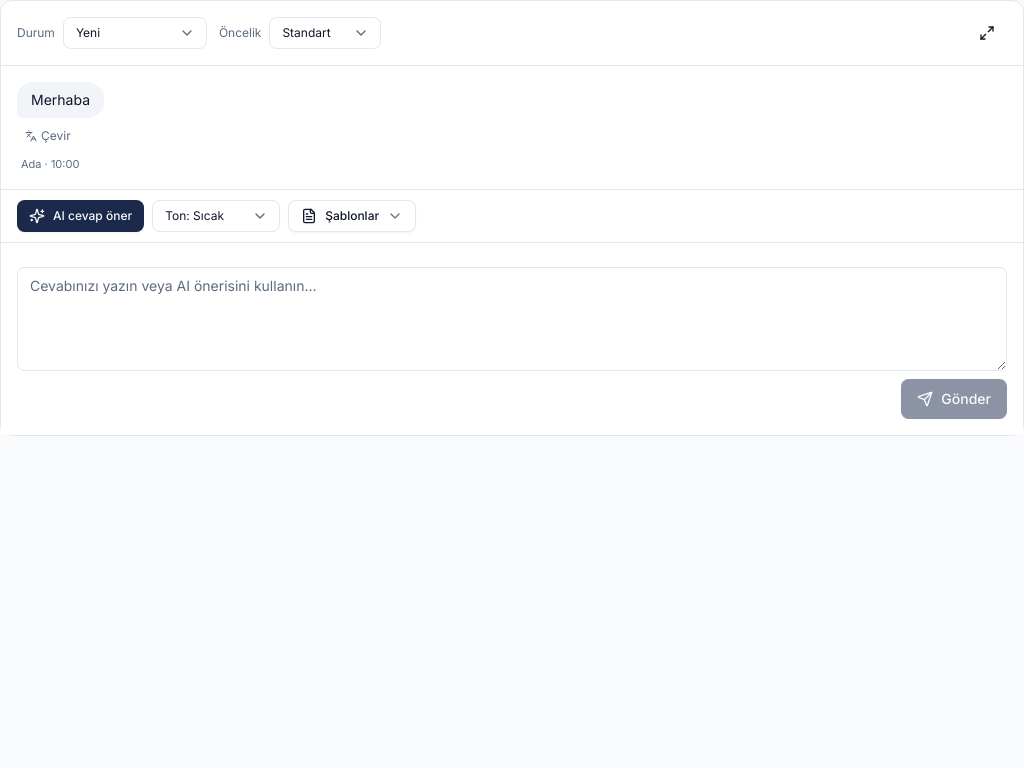
Test: şablon seçici — sayfalı liste + seçilince tam metin › yavaş dönen ESKİ arama yenisinin sonucunu ezmez
The width and height of the screenshot is (1024, 768).
Click the button "Şablonlar" at (352, 216), box [288,200,416,232]
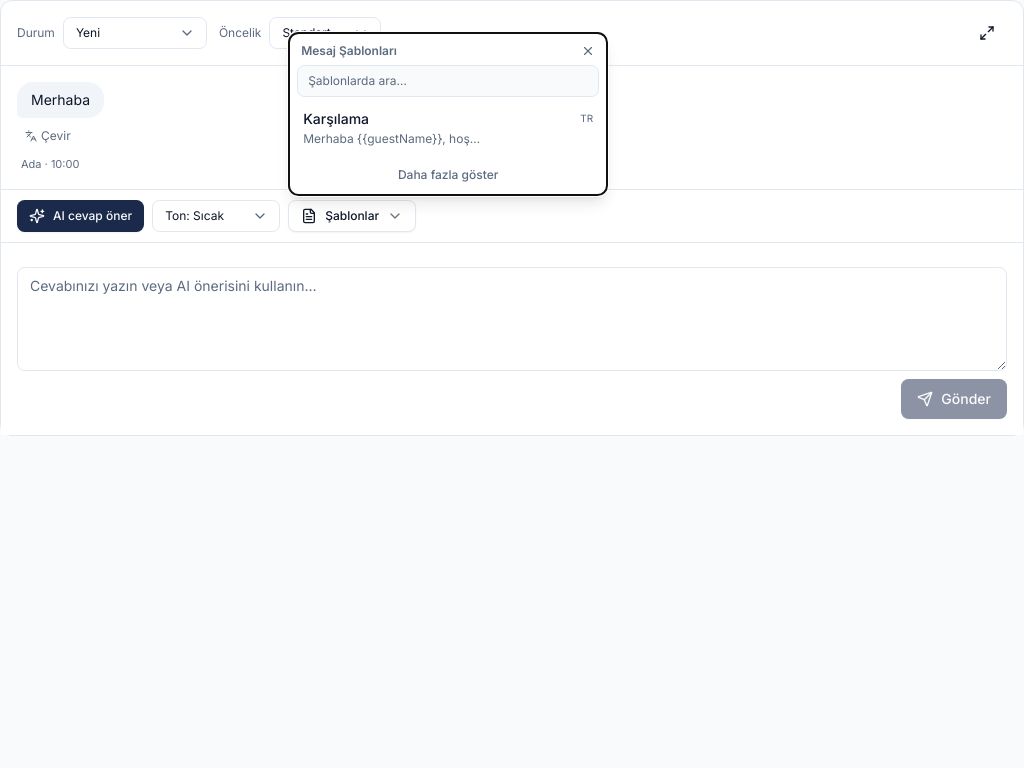
Now the dialog shows "Karşılama", box [293,100,603,154]
Type "yavas" into the search field labelled "Şablonlarda ara" at (448, 80), box [297,64,599,96]
Wait 300 ms
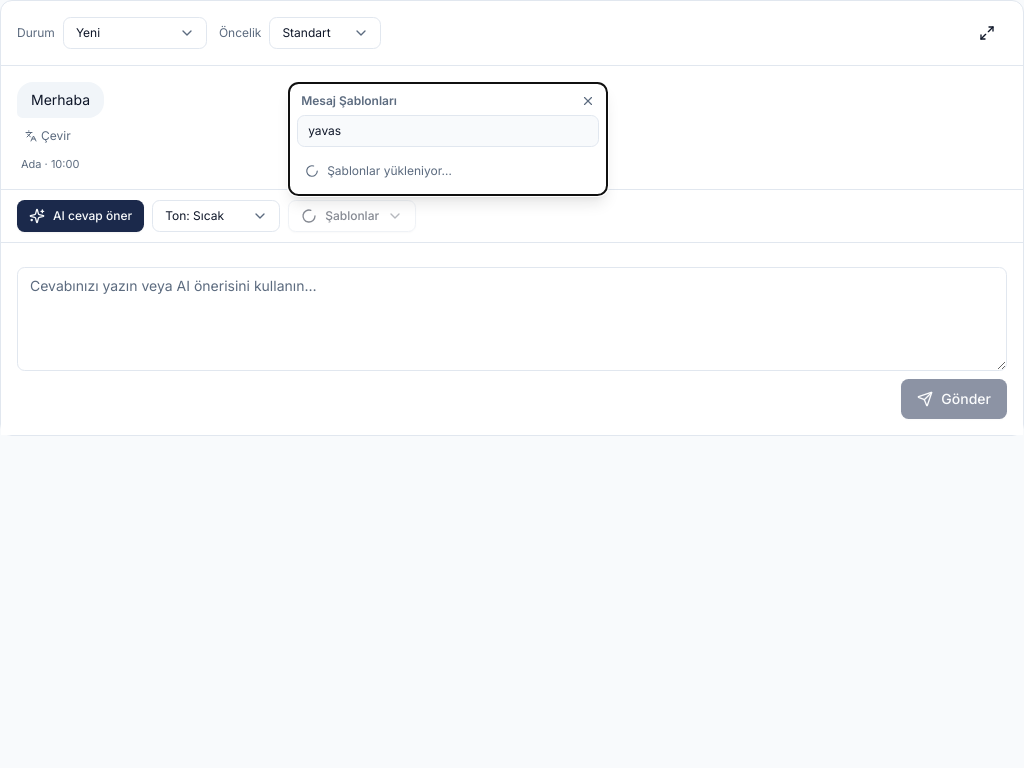
Replace the text in the search field named "Şablonlarda ara" with "otopark" at (448, 130), box [297,114,599,146]
Wait 300 ms
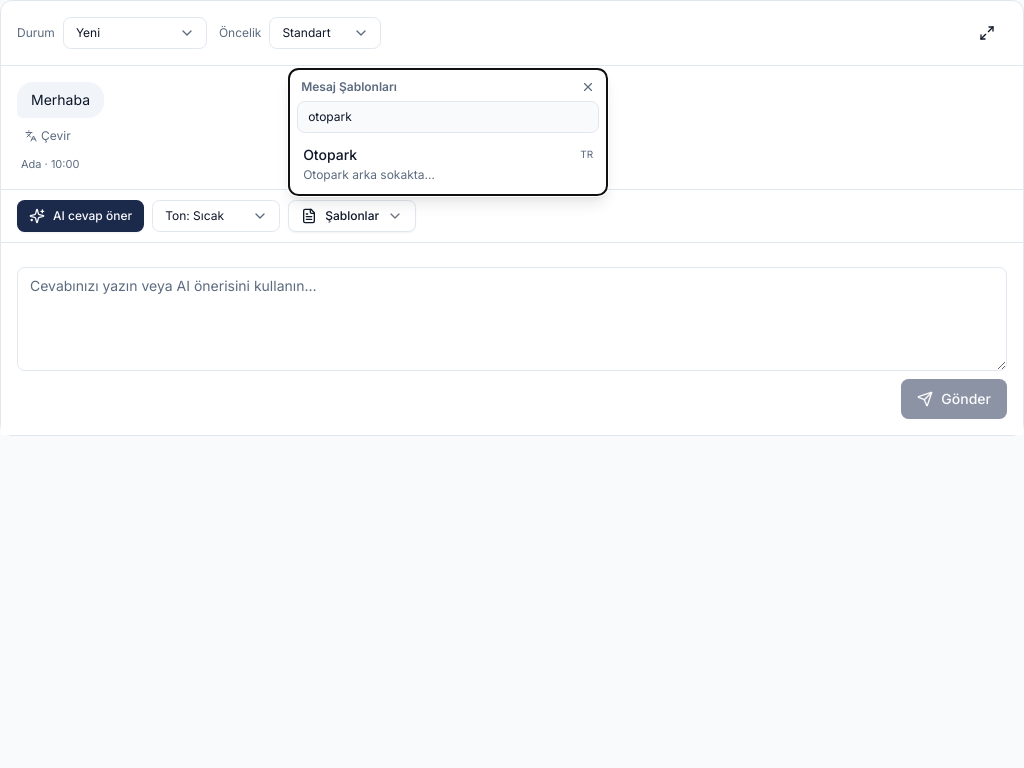
Now the dialog shows "Otopark arka sokakta…", box [293,136,603,190]
